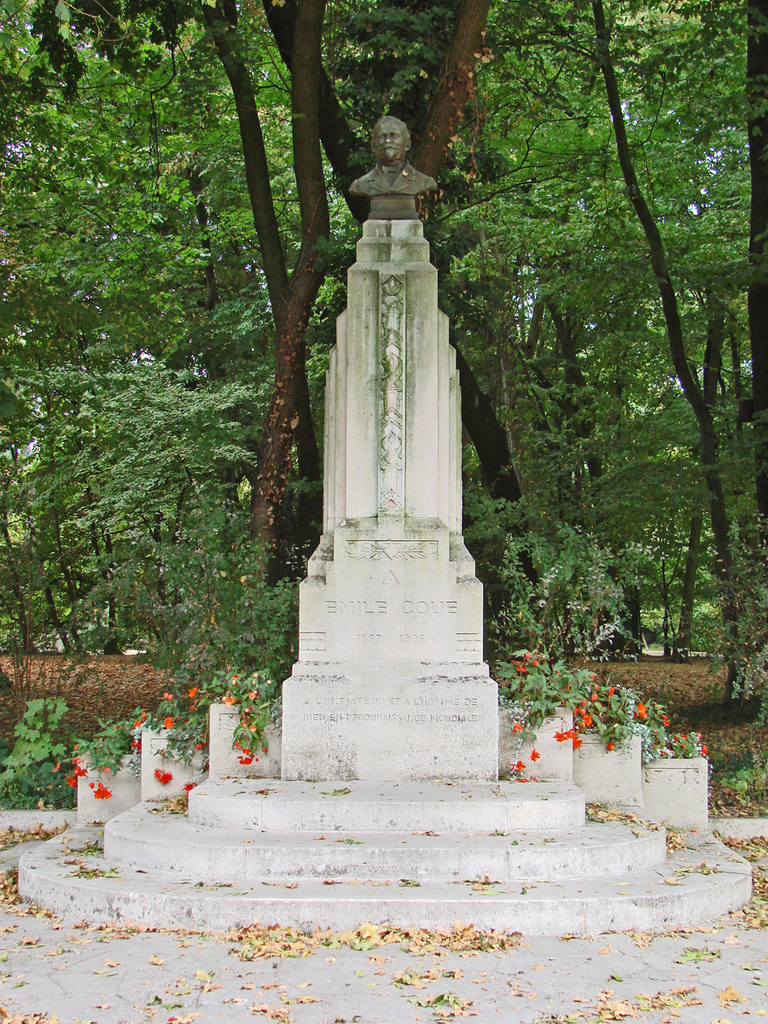Tree: (0, 0, 767, 669)
